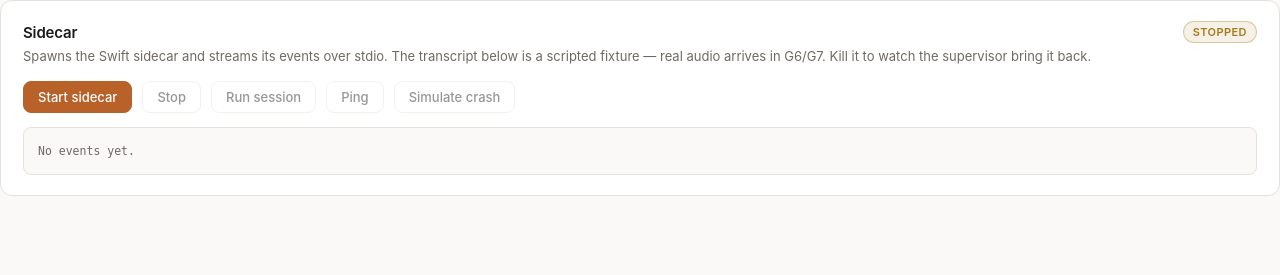
Test: SidecarCard › renders mic and system utterances with distinct tags
The width and height of the screenshot is (1280, 275).
Click the button "Start sidecar" at (78, 96), box [23, 80, 132, 112]
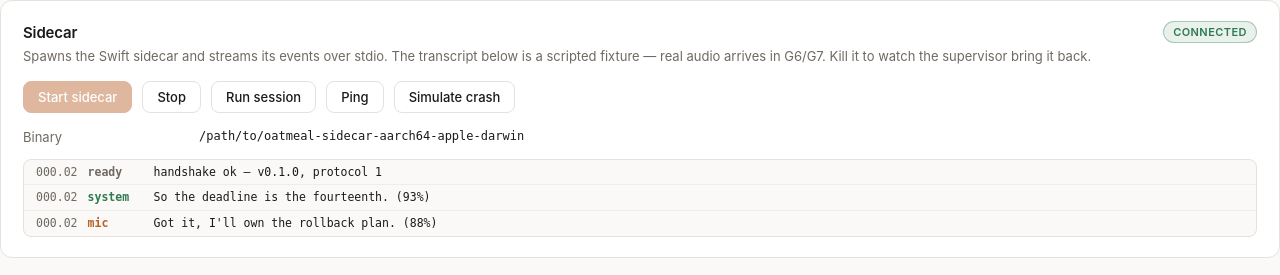
Expected: the text "So the deadline is the fourteenth. (93%)" is shown, [154, 190, 430, 204]
Expected: the text "Got it, I'll own the rollback plan. (88%)" is shown, [154, 216, 437, 230]
Expected: the text "mic" is shown, [88, 216, 108, 230]
